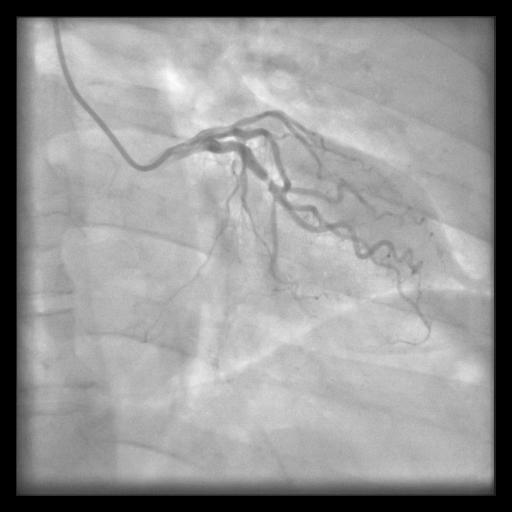Stenosis: (264, 171, 271, 189)
